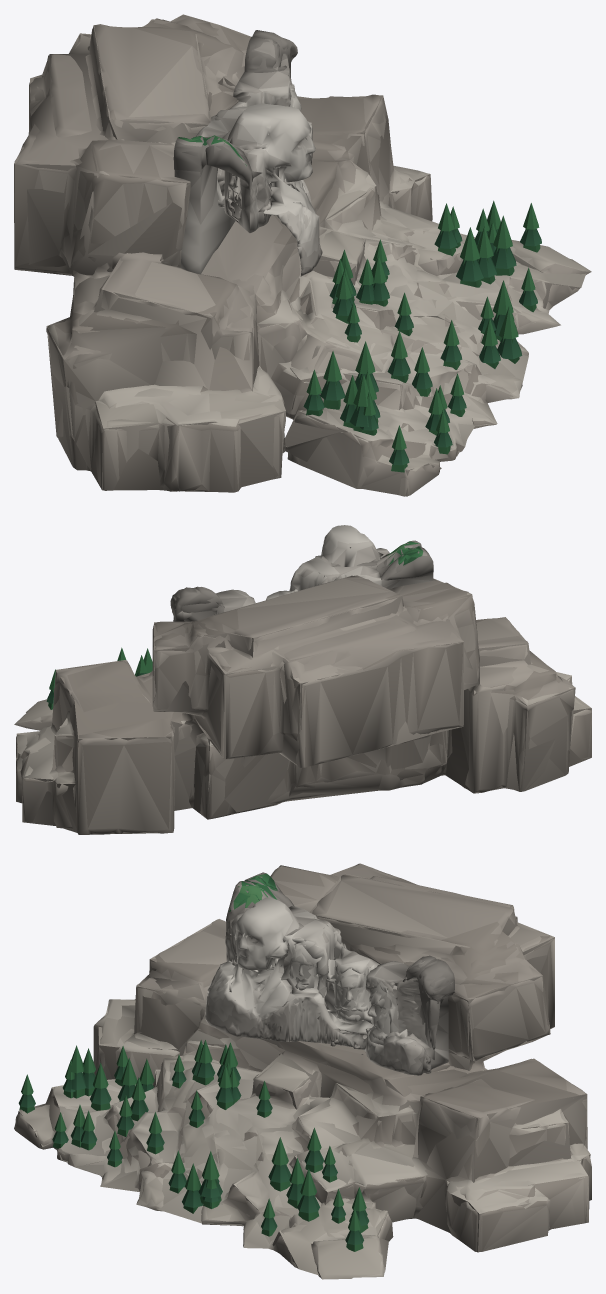
Rendered from mount_rushmore.glb.
3 views of the same model, one above another, from view 1: azimuth 30°, elevation 25°; view 2: azimuth 150°, elevation 25°; view 3: azimuth 270°, elevation 25° (orthographic). The views are drawn at different scales.
Visible parts, largest first — view 1: MountRushmore, MountRushmoreLOD; view 2: MountRushmore, MountRushmoreLOD; view 3: MountRushmore, MountRushmoreLOD.
Boxes of the visible parts, x1,y1,x2,y2 form: MountRushmore: [14, 15, 591, 496]; MountRushmoreLOD: [14, 14, 585, 496]; MountRushmore: [14, 525, 591, 834]; MountRushmoreLOD: [16, 542, 591, 833]; MountRushmore: [15, 863, 591, 1279]; MountRushmoreLOD: [14, 863, 590, 1275].
Bounding box in the file's own units: 187 × 80.78 × 187.
